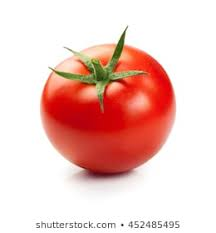tomato: (42, 44, 174, 174)
